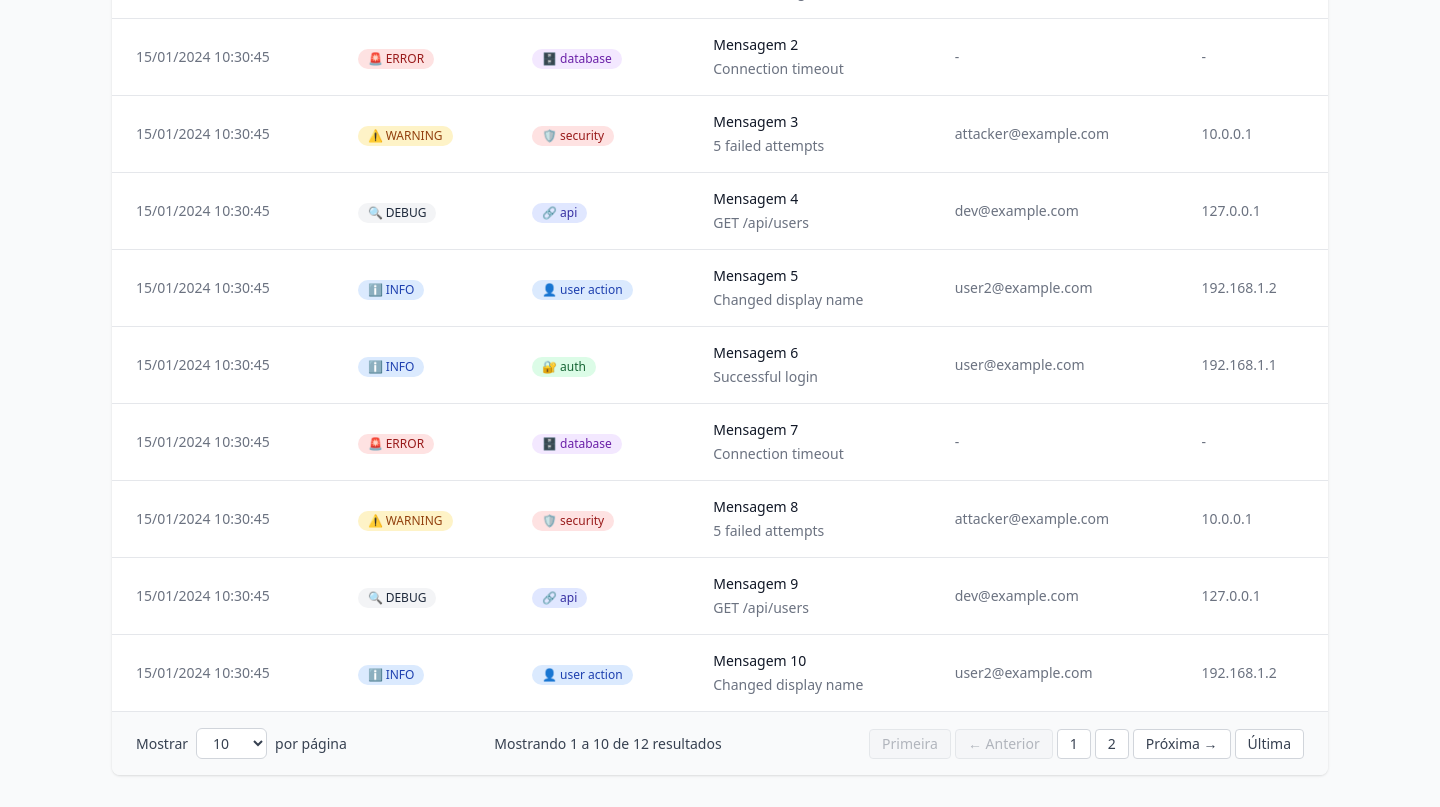
Test: AdminLogsPage › pagina resultados quando ha mais de 10 logs
(page scrolled)
Expected: the button "Primeira" is shown, [869,728,951,758]
Expected: the button "Última" is shown, [1234,728,1304,758]
Click the button "Próxima →": x=1182, y=744 [1133,728,1231,758]
(page scrolled)
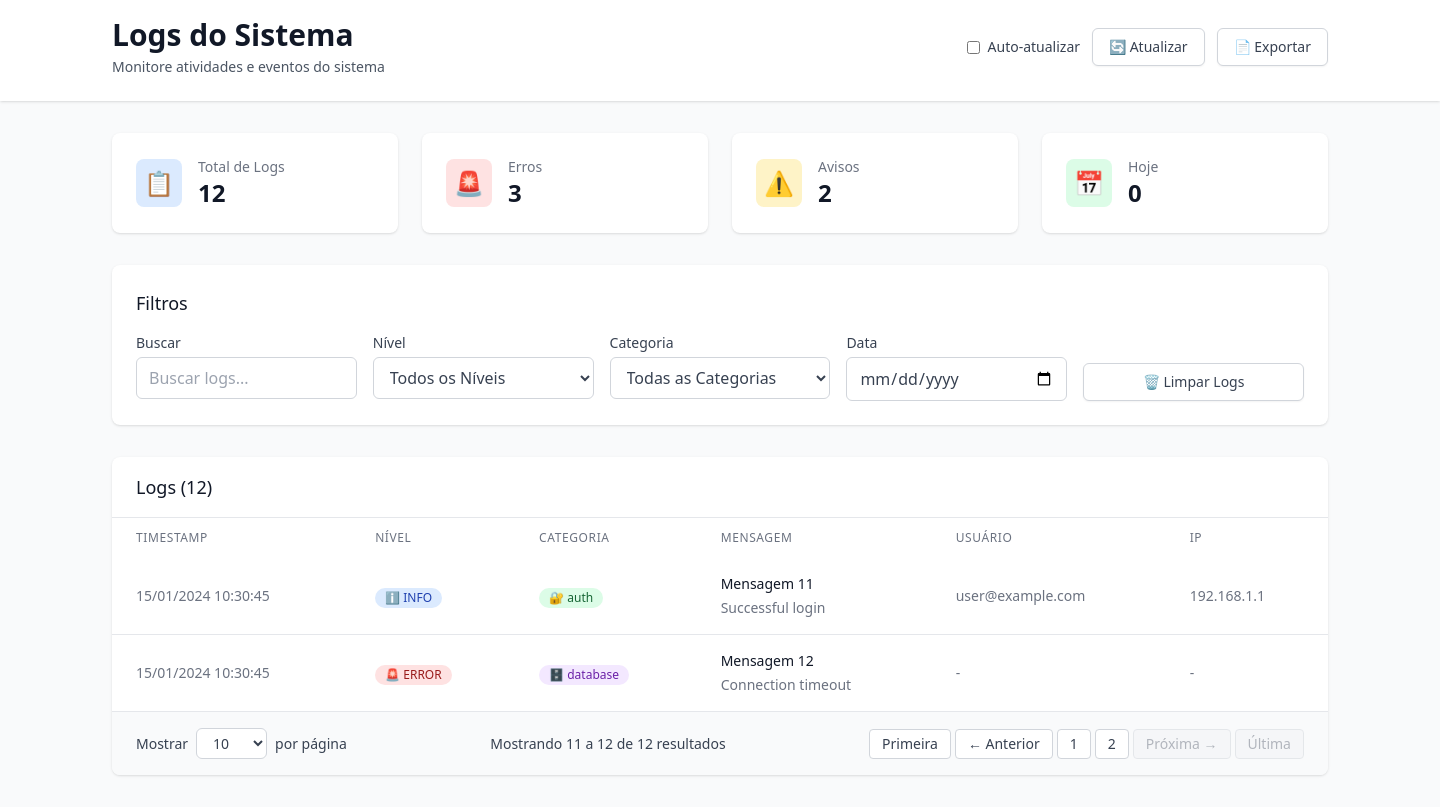
Expected: the text "Mensagem 11" is shown, [721,574,814,593]
